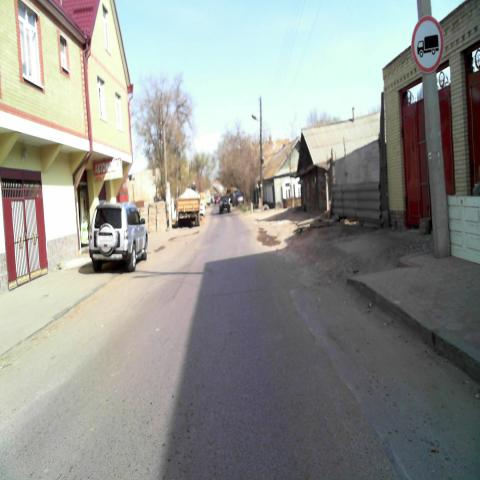3_4_1: (411, 15, 444, 72)
